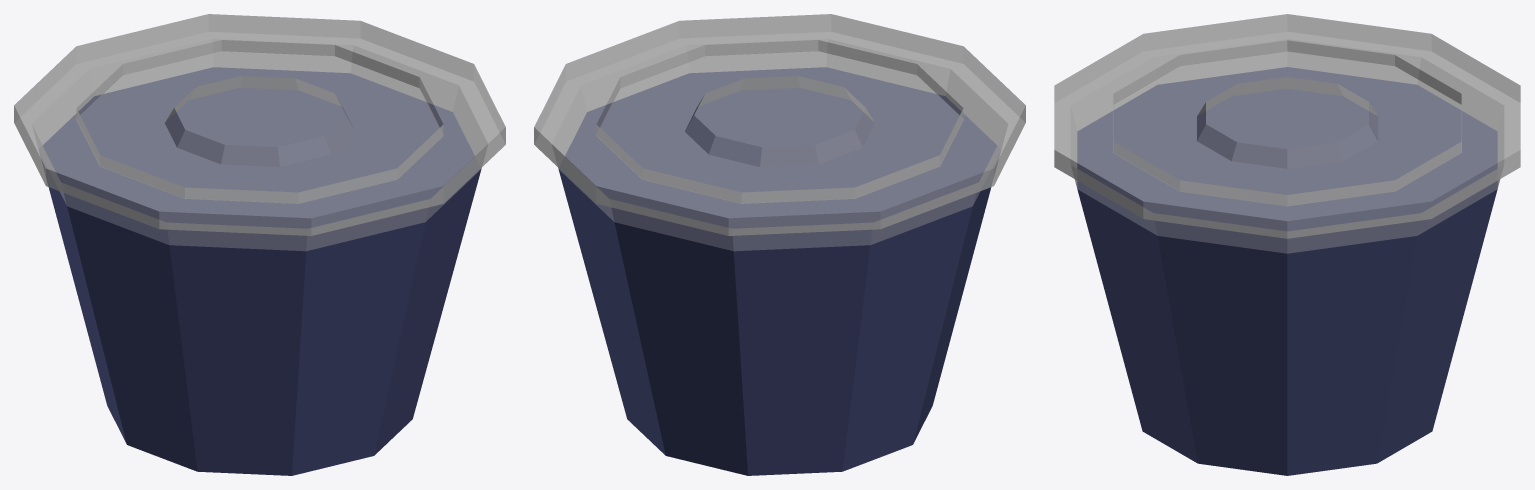
File: DippingCup.fbx
3 renders of one model, left to right at view 1: azimuth 30°, elevation 25°; view 2: azimuth 150°, elevation 25°; view 3: azimuth 270°, elevation 25°, orthographic.
Visible parts, largest first — view 1: DippingCup; view 2: DippingCup; view 3: DippingCup.
Boxes of the visible parts, x1=… form: DippingCup: x1=14, y1=14, x2=505, y2=475; DippingCup: x1=534, y1=14, x2=1025, y2=475; DippingCup: x1=1054, y1=14, x2=1520, y2=475.
Size of the model in its own units: 12.98 by 8.72 by 12.34.
